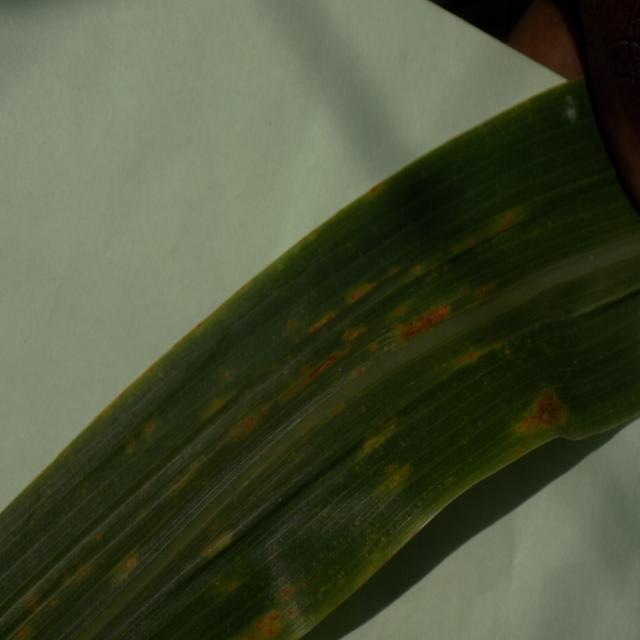millet_rust: (0, 80, 640, 639)
